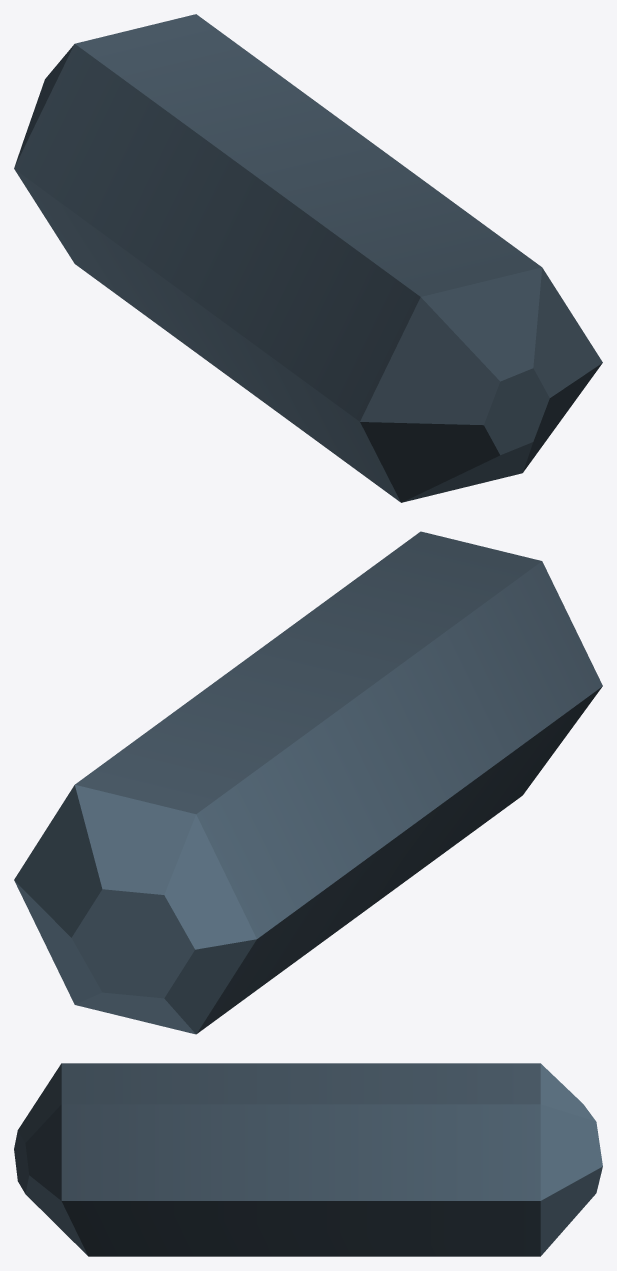
File: CalciteCrystal.010.glb
3 renders of one model, top to bottom at view 1: azimuth 30°, elevation 25°; view 2: azimuth 150°, elevation 25°; view 3: azimuth 270°, elevation 25°, orthographic. The views are drawn at different scales.
Parts seen in each view (by area): view 1: CalciteCrystal.010; view 2: CalciteCrystal.010; view 3: CalciteCrystal.010.
Boxes of the visible parts, <box> form: CalciteCrystal.010: <box>14,14,602,502</box>; CalciteCrystal.010: <box>14,531,602,1034</box>; CalciteCrystal.010: <box>14,1063,602,1256</box>.
Bounding box in the file's own units: 139 × 121 × 422.
